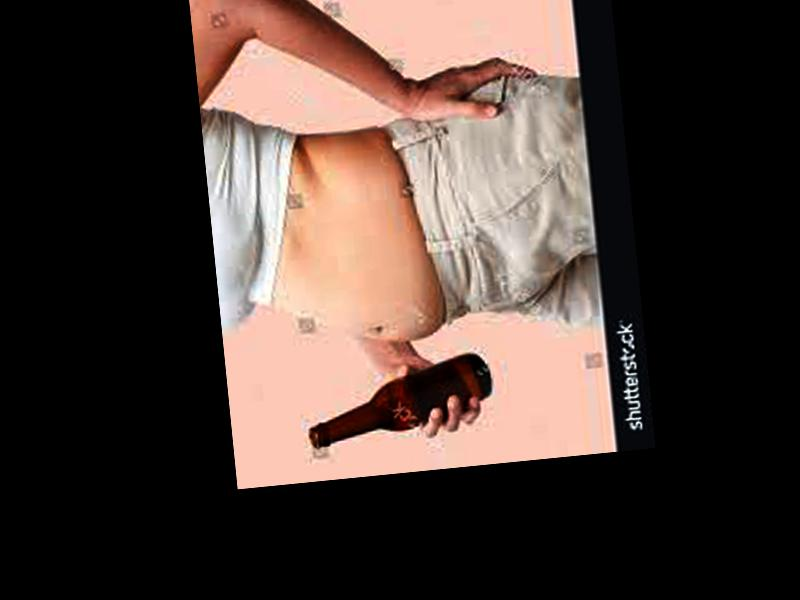Beer: (304, 347, 498, 449)
